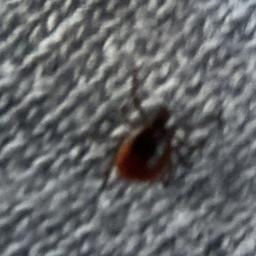Ixodes scapularis: (100, 74, 220, 188)
